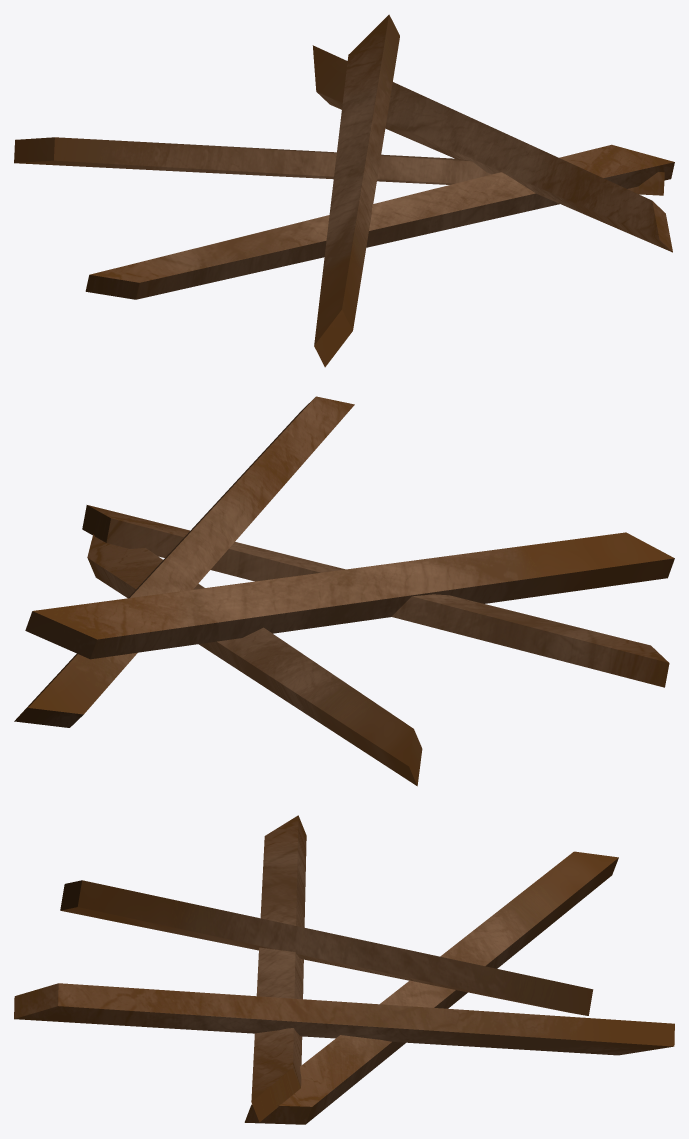
Rendered from DestroçosMadeira2.fbx.
3 views of the same model, one above another, from view 1: azimuth 30°, elevation 25°; view 2: azimuth 150°, elevation 25°; view 3: azimuth 270°, elevation 25° (orthographic). The views are drawn at different scales.
Visible parts, largest first — view 1: Cube; view 2: Cube; view 3: Cube.
Boxes of the visible parts, x1,y1,x2,y2 form: Cube: (14, 14, 674, 367); Cube: (14, 396, 674, 786); Cube: (14, 815, 674, 1124).
Size of the model in its own units: 327 by 54.91 by 327.
